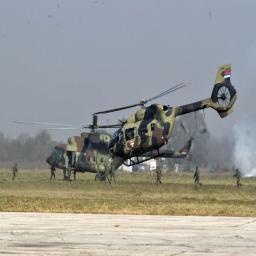helicopter: (80, 53, 222, 176), (41, 119, 159, 187)
